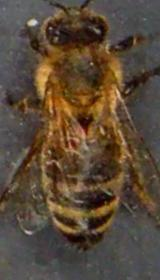varroa_mite: (57, 129, 86, 149)
